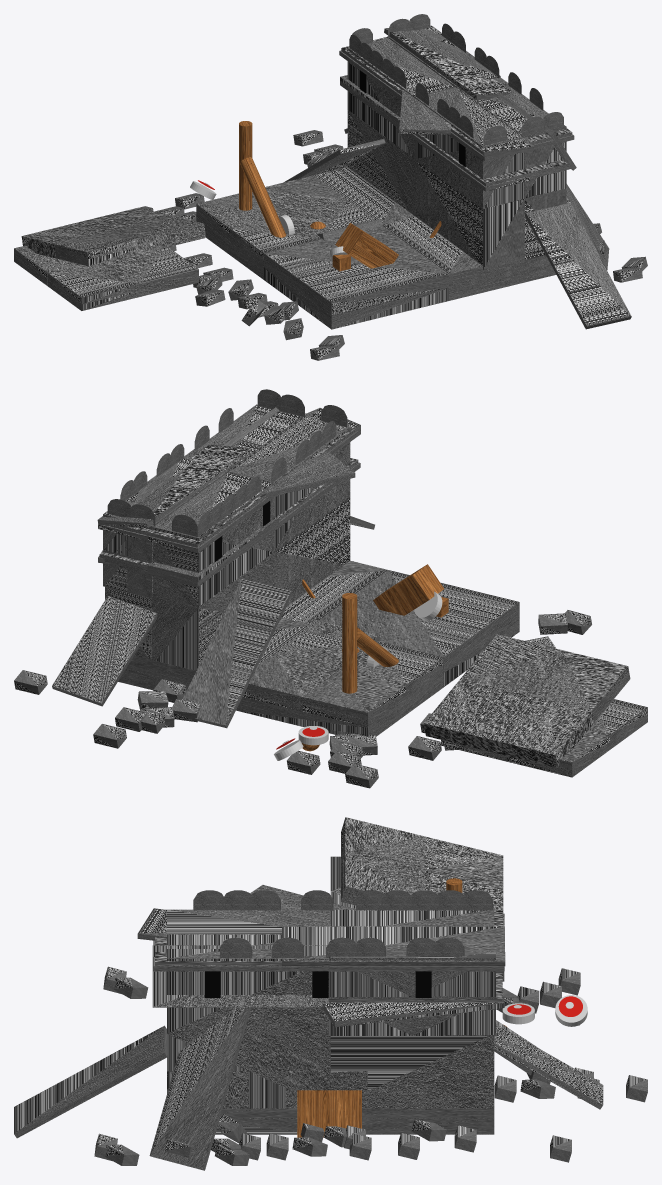
File: HittitesArmyBuilding_semidemolished.fbx
The picture shows the model from 3 angles, top to bottom: view 1: azimuth 30°, elevation 25°; view 2: azimuth 150°, elevation 25°; view 3: azimuth 270°, elevation 25°; orthographic projection. The views are drawn at different scales.
Parts seen in each view (by area): view 1: Cube_cell.006, Cube.001_cell.004, Cube.002_cell.004, Cube.001_cell.001, Cube.001_cell.003, Cube.001_cell.005, Cube_cell.003, Cube.001_cell, Cube.002_cell.002, Cube_cell.002, Cube_cell_cell.012, Cube_cell.001 (+26 smaller); view 2: Cube_cell.006, Cube.003_cell.007, Cube.001_cell.003, Cube.003_cell.004, Cube.001_cell.001, Cube.001_cell.005, Cube.001_cell.004, Cube_cell_cell.019, Cube_cell_cell.022, Cube_cell_cell.023, Cube_cell_cell.021, Cube.002_cell.002 (+34 smaller); view 3: Cube.001_cell.002, Cube.001_cell, Cube.003_cell.002, Cube.002_cell.002, Cube.002_cell.004, Cube.001_cell.001, Cube.001_cell.007_cell, Cube.003_cell.006, Cube.003_cell.004, Cube.003_cell.003, Cube_cell_cell.023, Cube.001_cell.003 (+48 smaller).
Part boxes in pixels (left/top/right/bottom): Cube_cell.006: left=264, top=226, right=448, bottom=315; Cube.001_cell.004: left=415, top=159, right=524, bottom=270; Cube.002_cell.004: left=525, top=203, right=631, bottom=329; Cube.001_cell.001: left=415, top=87, right=524, bottom=208; Cube.001_cell.003: left=347, top=38, right=455, bottom=158; Cube.001_cell.005: left=347, top=110, right=415, bottom=215; Cube_cell.003: left=382, top=216, right=549, bottom=287; Cube.001_cell: left=458, top=77, right=566, bottom=198; Cube.002_cell.002: left=384, top=28, right=513, bottom=99; Cube_cell.002: left=264, top=267, right=448, bottom=329; Cube_cell_cell.012: left=48, top=261, right=140, bottom=304; Cube_cell.001: left=314, top=167, right=414, bottom=224; Cube_cell.006: left=319, top=570, right=519, bottom=671; Cube.003_cell.007: left=182, top=578, right=292, bottom=728; Cube.001_cell.003: left=153, top=471, right=274, bottom=607; Cube.003_cell.004: left=52, top=596, right=157, bottom=706; Cube.001_cell.001: left=229, top=416, right=350, bottom=551; Cube.001_cell.005: left=152, top=552, right=274, bottom=670; Cube.001_cell.004: left=274, top=497, right=350, bottom=606; Cube_cell_cell.019: left=489, top=695, right=592, bottom=761; Cube_cell_cell.022: left=424, top=679, right=525, bottom=745; Cube_cell_cell.023: left=526, top=650, right=629, bottom=716; Cube_cell_cell.021: left=460, top=634, right=562, bottom=694; Cube.002_cell.002: left=97, top=444, right=250, bottom=528; Cube.001_cell.002: left=330, top=1035, right=494, bottom=1108; Cube.001_cell: left=167, top=934, right=328, bottom=1033; Cube.003_cell.002: left=149, top=1001, right=250, bottom=1170; Cube.002_cell.002: left=282, top=926, right=505, bottom=965; Cube.002_cell.004: left=14, top=1025, right=167, bottom=1138; Cube.001_cell.001: left=167, top=909, right=330, bottom=934; Cube.001_cell.007_cell: left=249, top=1033, right=330, bottom=1070; Cube.003_cell.006: left=152, top=945, right=328, bottom=1007; Cube.003_cell.004: left=494, top=1024, right=603, bottom=1109; Cube.003_cell.003: left=323, top=1000, right=504, bottom=1026; Cube_cell_cell.023: left=343, top=817, right=424, bottom=870; Cube.001_cell.003: left=330, top=909, right=494, bottom=926.
Size of the model in its own units: 2068 by 741 by 1957.
